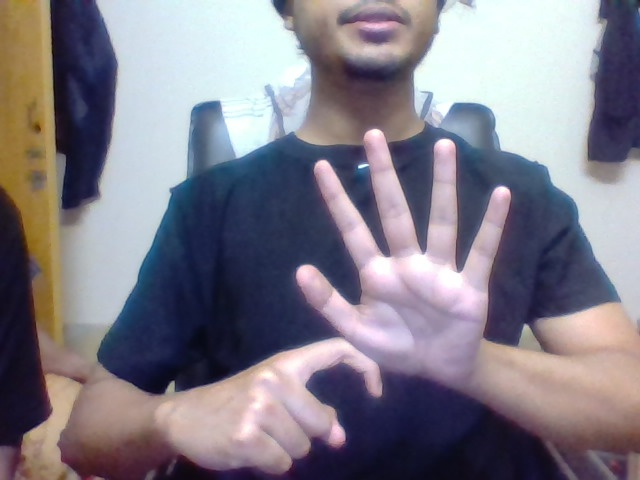R: (275, 336, 386, 446)
